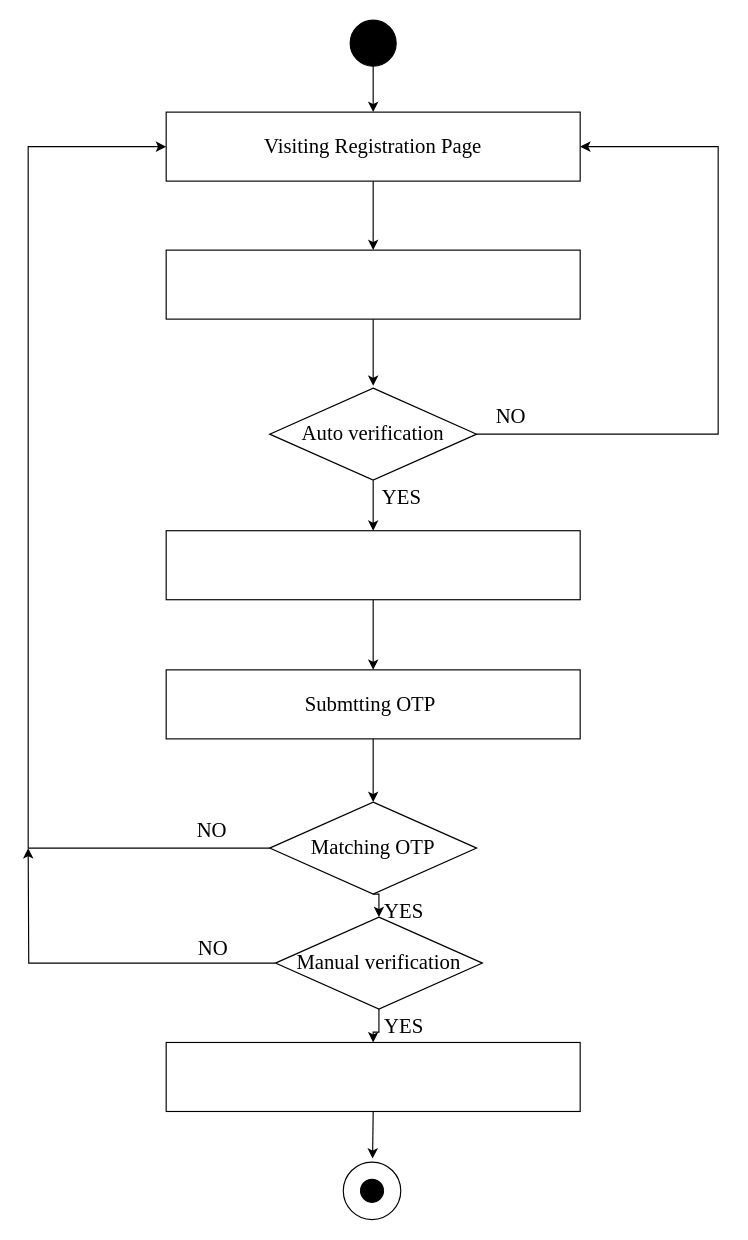
Some shapes in this 748 by 1240 pixel diagram are drawn without their labels. The box of each missing label's shape, as (x1, y1, x2, y2) in pixels:
Dashboard: (165, 1041, 580, 1111)
Sending OTP to end user: (165, 530, 580, 600)
Submitting Data: (165, 249, 580, 319)
